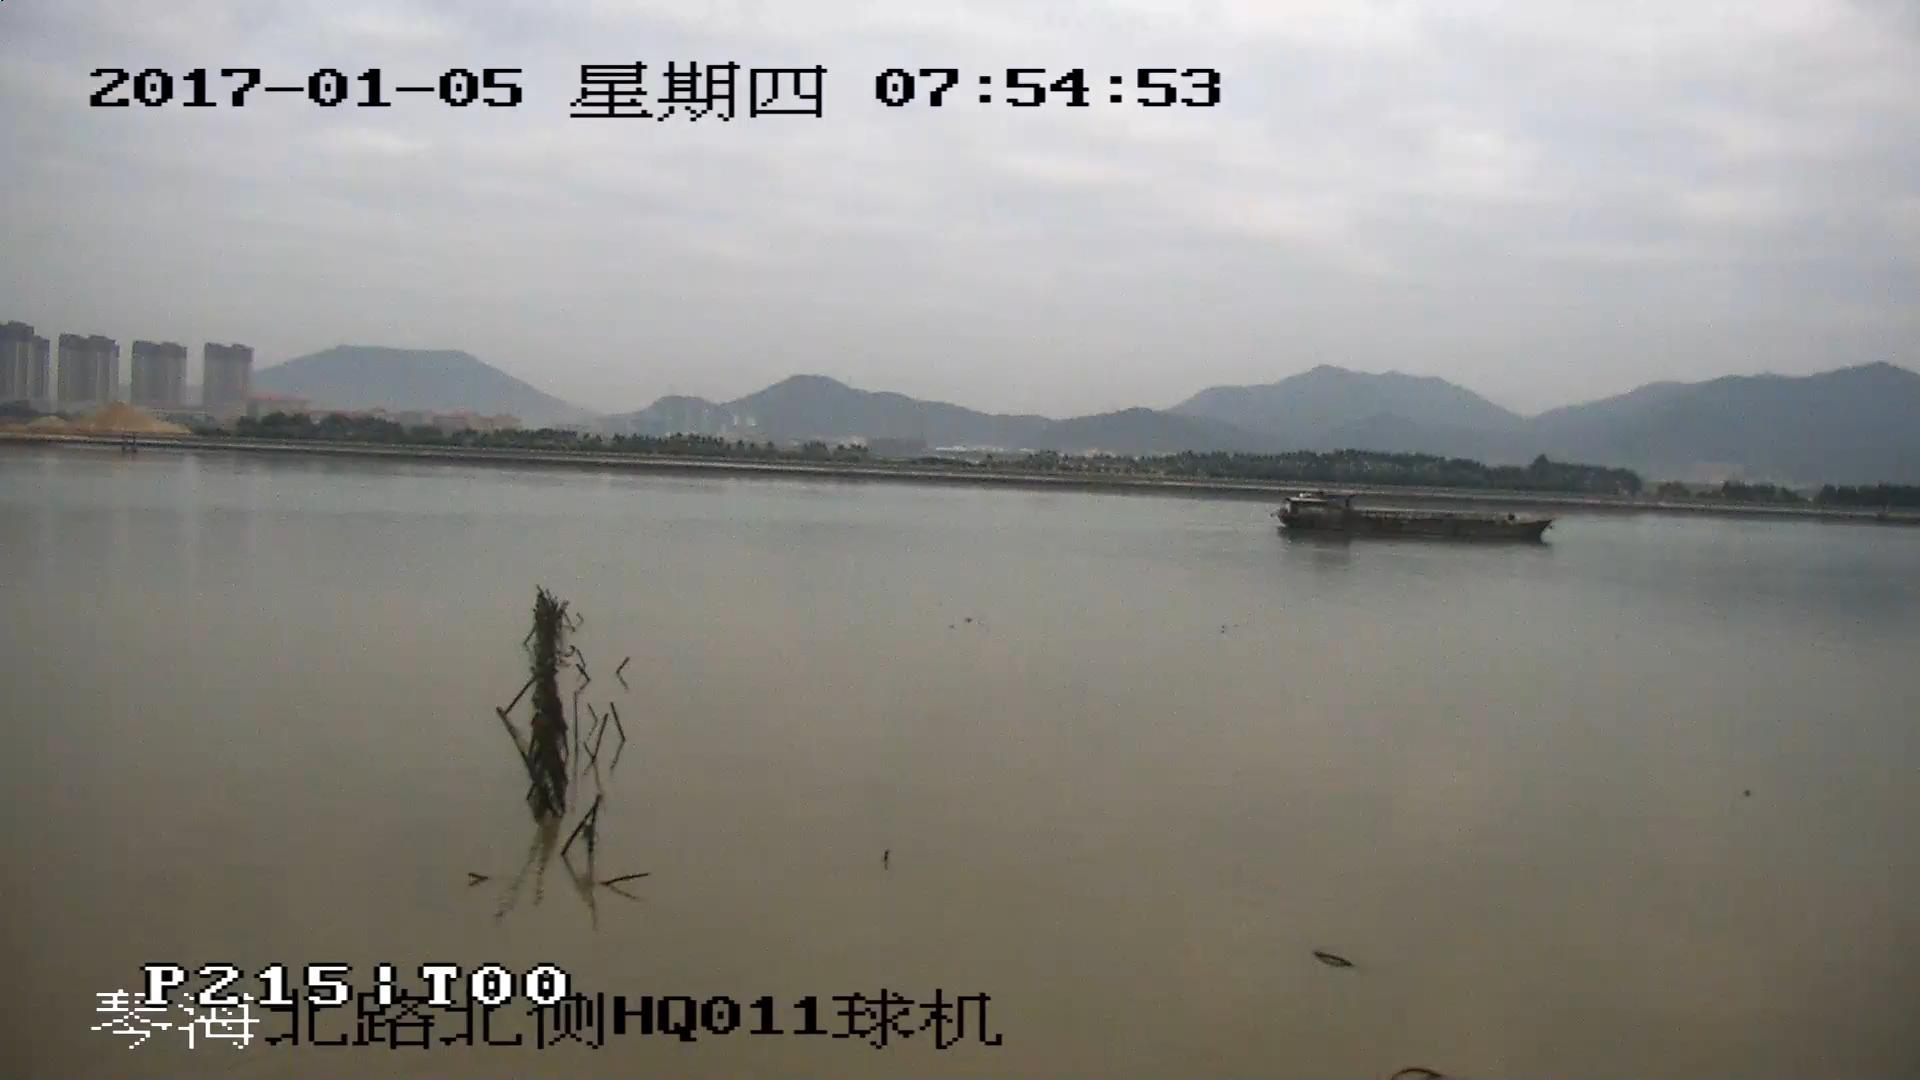Ship: (1274, 492, 1555, 542)
